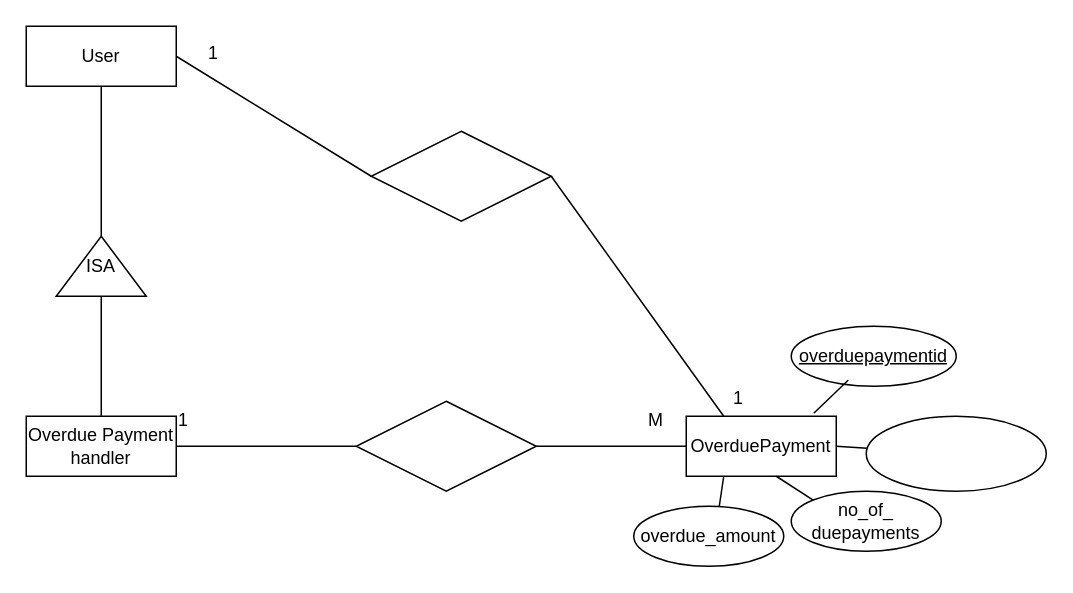
Image size: 1073x593. Some labels were removed from this diagram. The shapes that lost their labels are listed below. From the top down, each one's box as (x1, y1, x2, y2) in pixels, then its label:
(370, 130, 551, 221): has
(355, 400, 536, 491): Manages
(865, 415, 1046, 491): months_with_ due_payments
